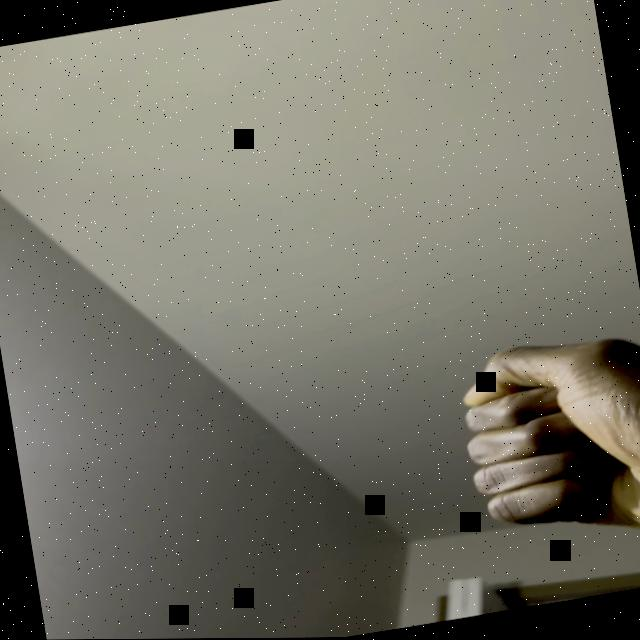Rock: (444, 322, 640, 573)
